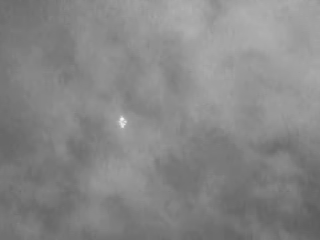Target: (120, 118, 127, 127)
